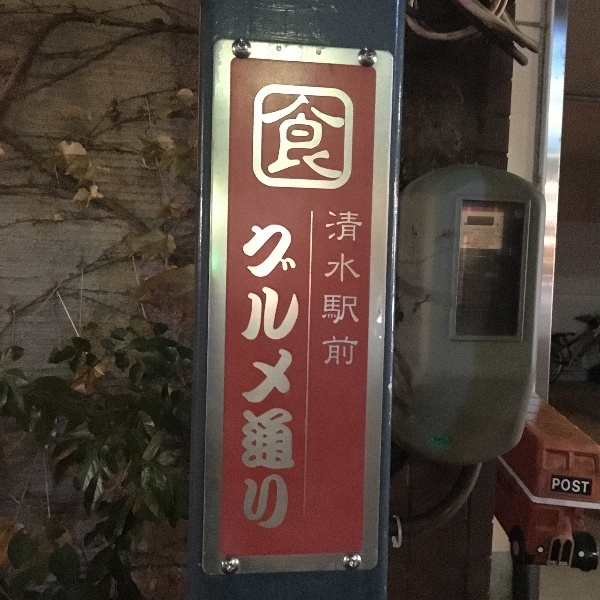text: (257, 222, 272, 534), (273, 222, 288, 534), (243, 222, 256, 534), (289, 222, 302, 534), (337, 208, 352, 375), (323, 208, 336, 375), (353, 208, 362, 375), (273, 92, 288, 189), (289, 92, 304, 189), (305, 92, 320, 189), (321, 92, 336, 189), (263, 92, 272, 189), (337, 92, 344, 189), (561, 477, 576, 498), (577, 477, 592, 498), (552, 477, 560, 498)
